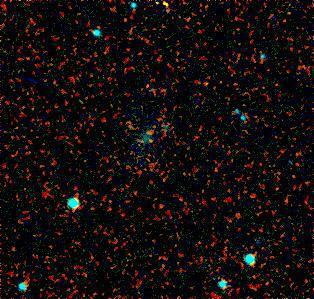star: (150, 0, 180, 22)
